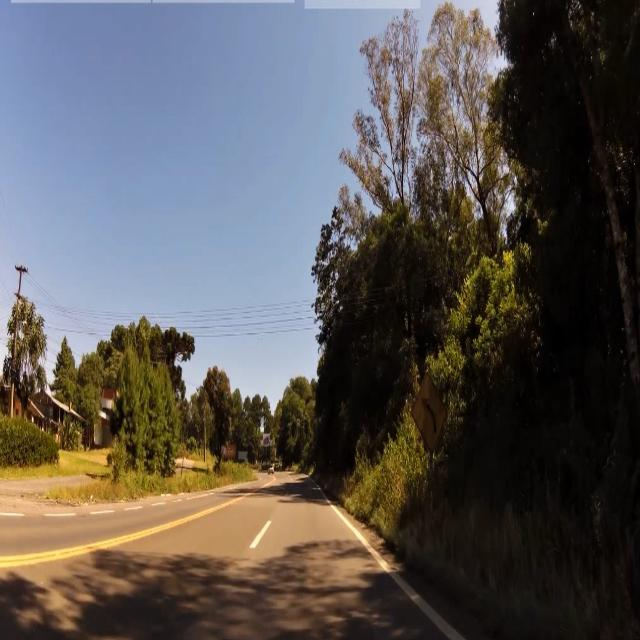A-2a: (412, 366, 447, 452)
